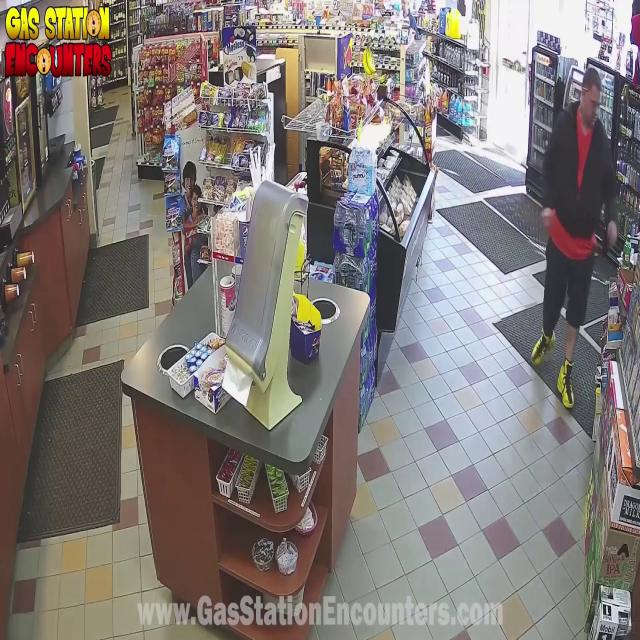normal: (520, 52, 634, 417)
